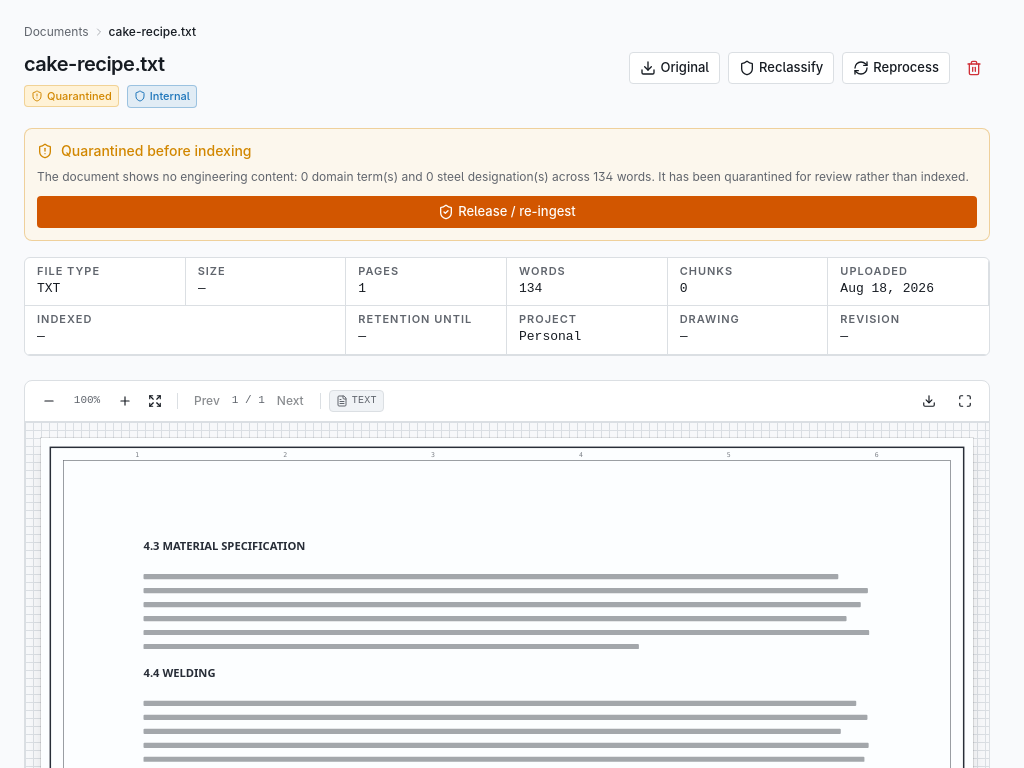
it: outcomes › surfaces a 409 rather than pretending it worked
Click the button "Release / re-ingest" at (507, 212), box [37, 196, 977, 228]
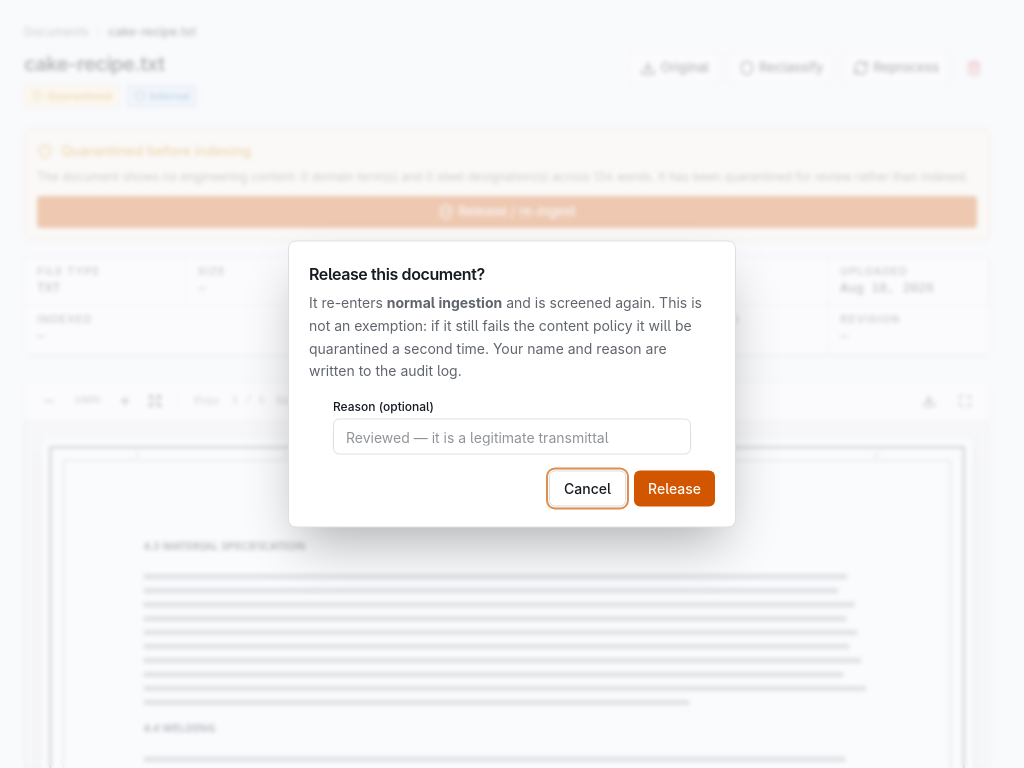
Click the button "Release" at (674, 488), box [634, 470, 715, 506]
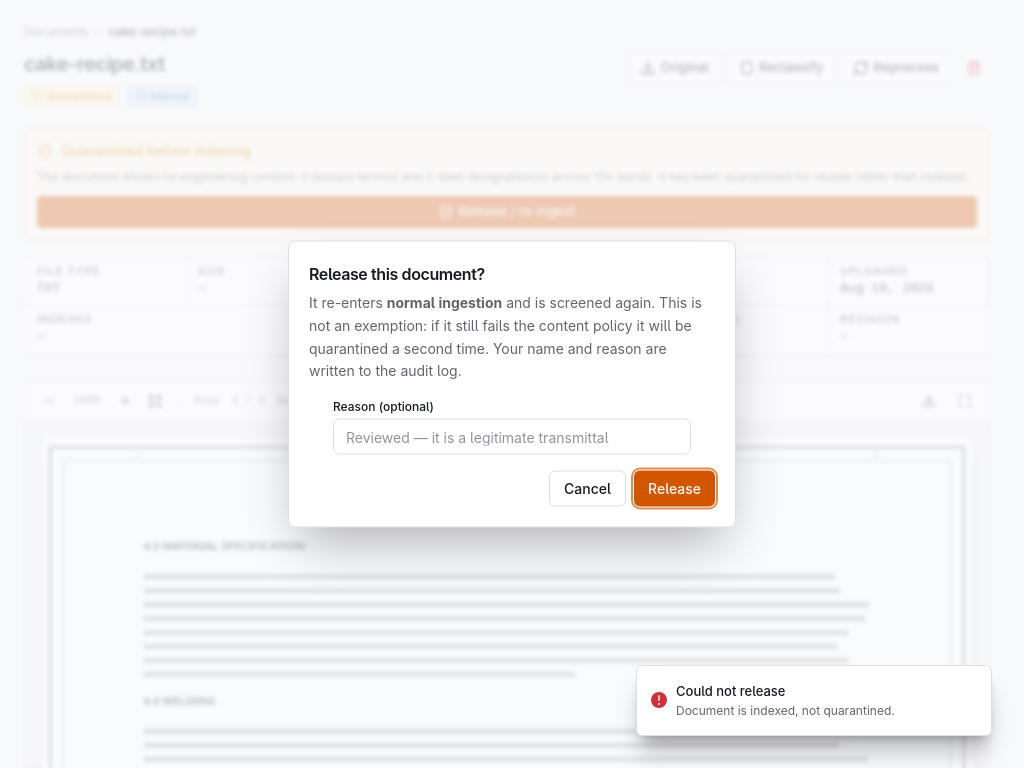
Result: the text "Could not release" is shown at [676, 682, 786, 698]
